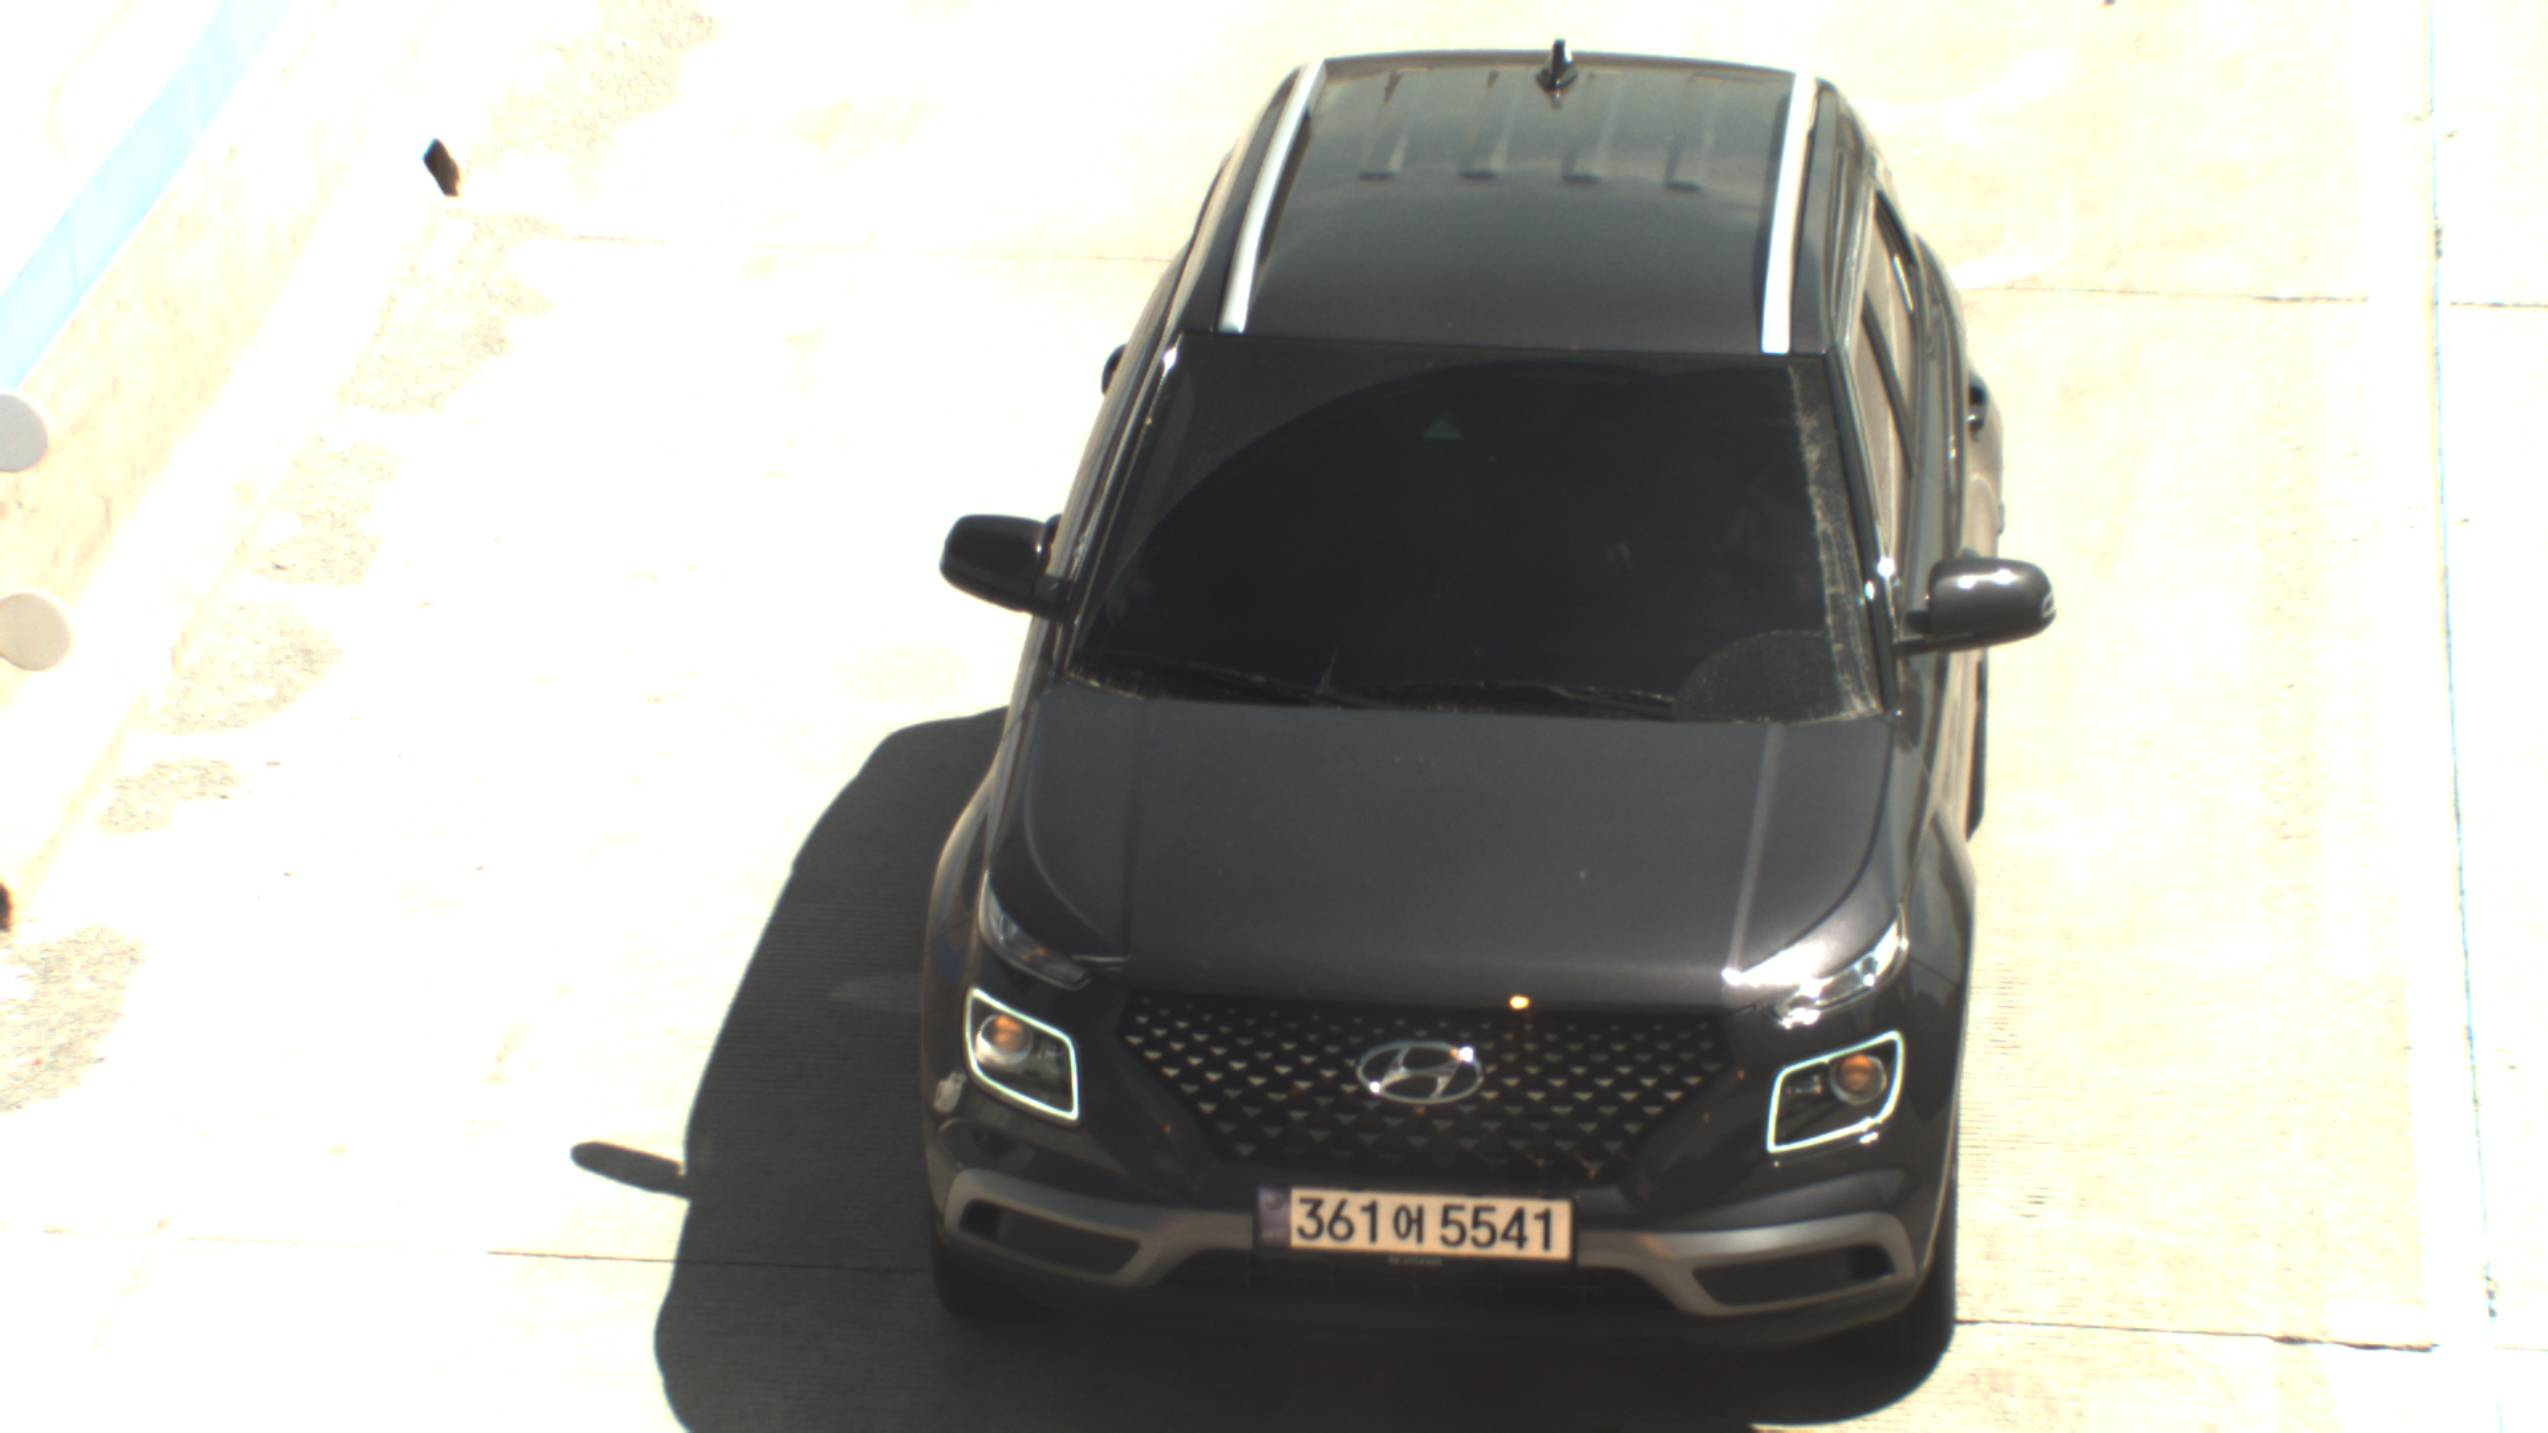car: (915, 41, 2067, 1398)
plate: (1246, 1178, 1581, 1282)
